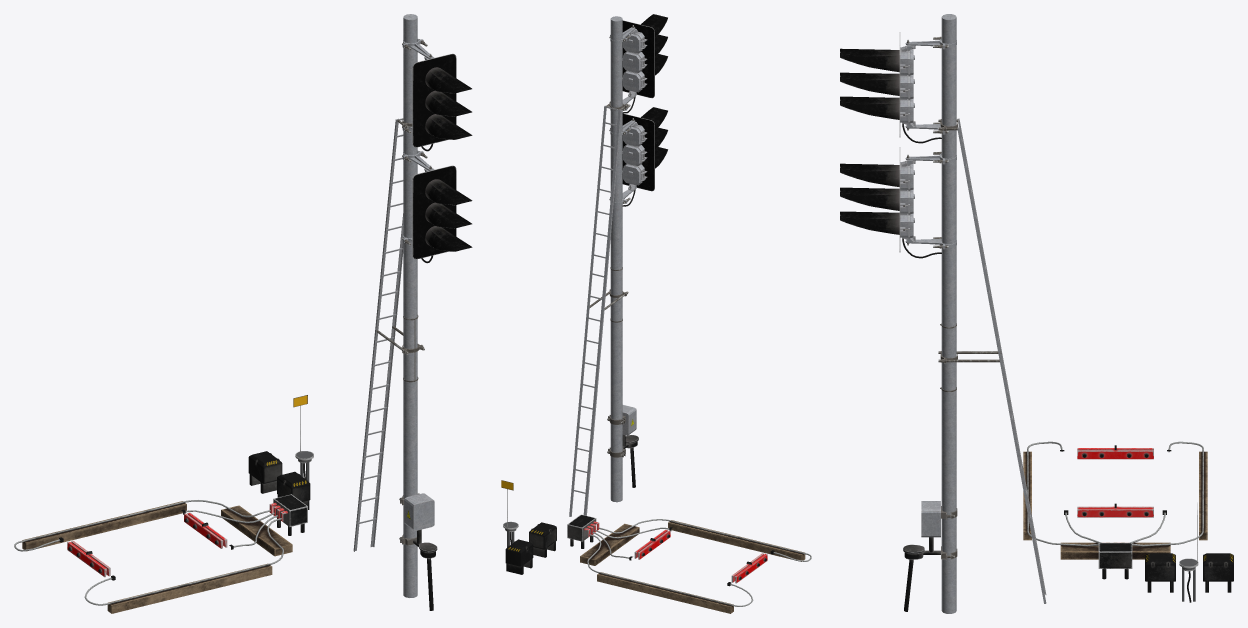
File: RM_sig_P_MM1_YGx+RYW_3+3_rout.gltf
The picture shows the model from 3 angles, left to right: view 1: azimuth 30°, elevation 25°; view 2: azimuth 150°, elevation 25°; view 3: azimuth 270°, elevation 25°; orthographic projection. The views are drawn at different scales.
Parts seen in each view (by area): view 1: Светофор 3+2, Изостык; view 2: Светофор 3+2, Изостык; view 3: Светофор 3+2, Изостык.
Boxes of the visible parts, x1=… form: Светофор 3+2: x1=353, y1=14, x2=472, y2=610; Изостык: x1=14, y1=395, x2=313, y2=613; Светофор 3+2: x1=569, y1=14, x2=668, y2=516; Изостык: x1=501, y1=480, x2=811, y2=613; Светофор 3+2: x1=840, y1=14, x2=1046, y2=613; Изостык: x1=1023, y1=441, x2=1233, y2=602.
Size of the model in its own units: 4.1 by 7.57 by 4.55.
2 materials, 2 textured.
